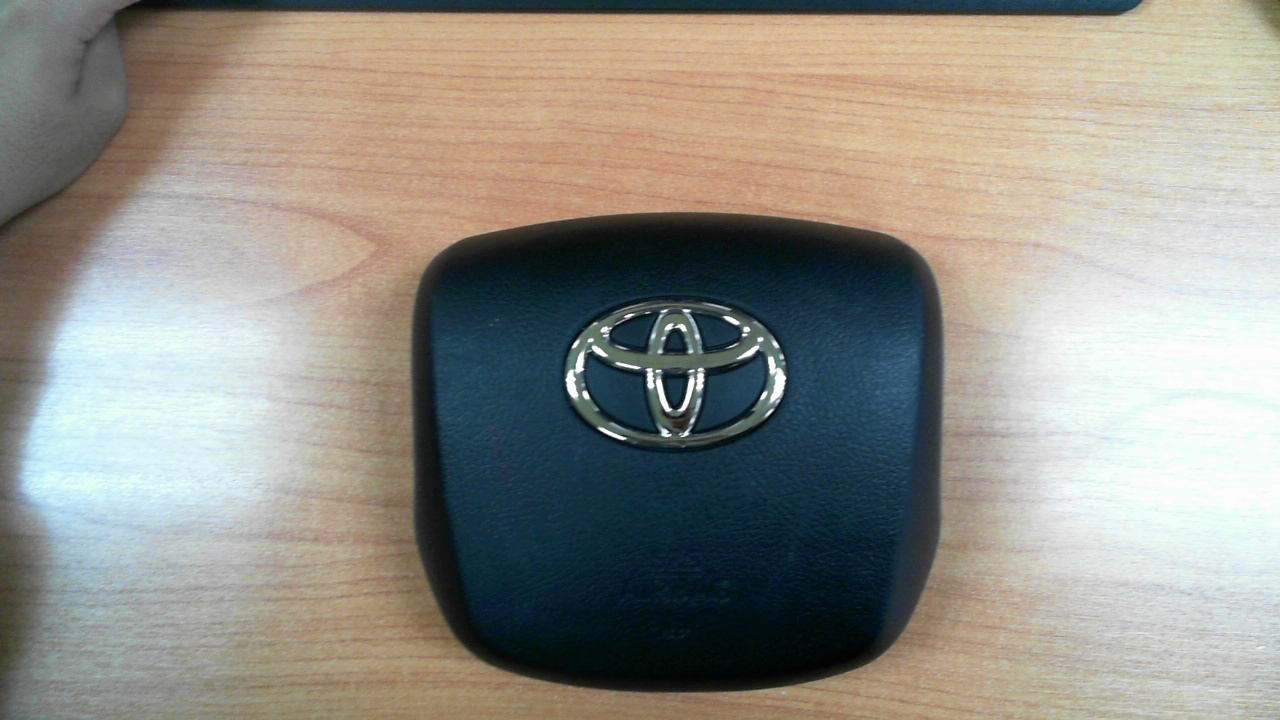Airbag: (406, 224, 943, 693)
Toyota: (564, 299, 788, 449)
